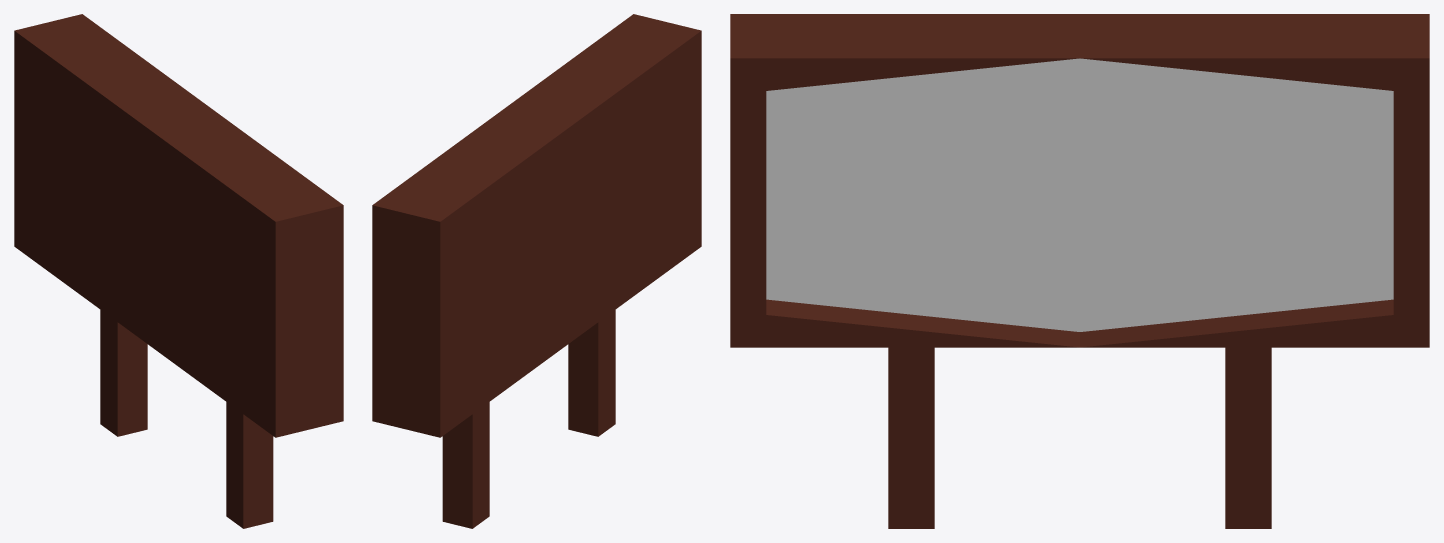
Rendered from noticeBoard.fbx.
The picture shows the model from 3 angles, left to right: view 1: azimuth 30°, elevation 25°; view 2: azimuth 150°, elevation 25°; view 3: azimuth 270°, elevation 25°; orthographic projection. The views are drawn at different scales.
Visible parts, largest first — view 1: Notice Board; view 2: Notice Board; view 3: Notice Board.
Boxes of the visible parts, x1,y1,x2,y2 form: Notice Board: (14, 14, 343, 528); Notice Board: (372, 14, 701, 528); Notice Board: (730, 14, 1429, 528).
Size of the model in its own units: 111 by 554 by 736.
